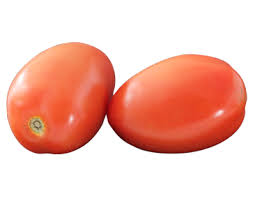tomato: (111, 52, 246, 153), (8, 38, 109, 155)
